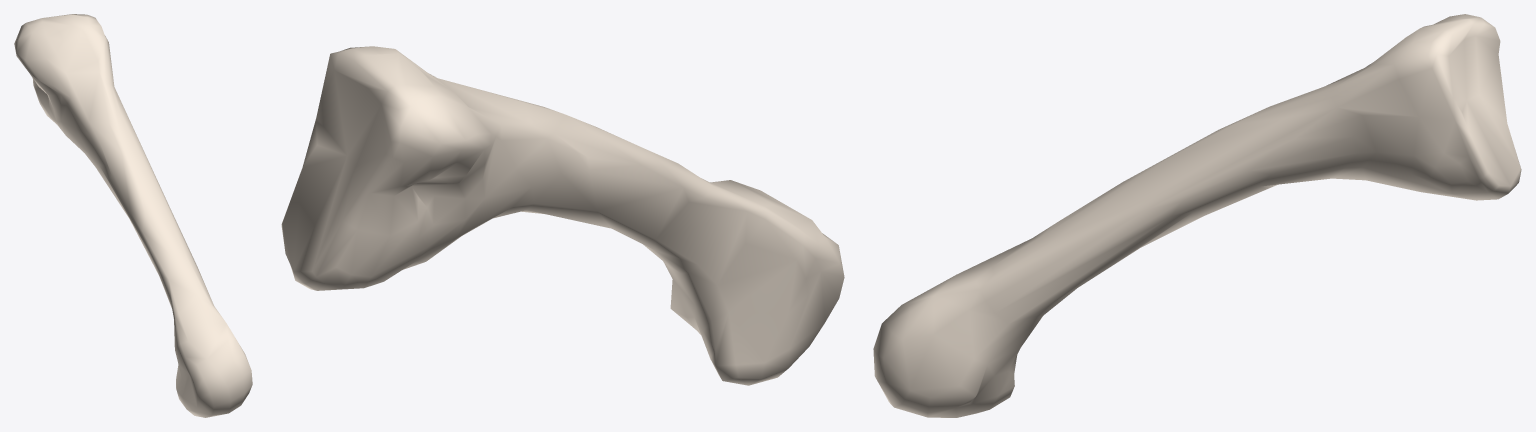
File: right_metatarsal_2.glb
The picture shows the model from 3 angles, left to right: view 1: azimuth 30°, elevation 25°; view 2: azimuth 150°, elevation 25°; view 3: azimuth 270°, elevation 25°; orthographic projection. The views are drawn at different scales.
Parts seen in each view (by area): view 1: Second metatarsal bone.r; view 2: Second metatarsal bone.r; view 3: Second metatarsal bone.r.
Part boxes in pixels (x1=…): Second metatarsal bone.r: x1=14, y1=14, x2=252, y2=417; Second metatarsal bone.r: x1=281, y1=46, x2=844, y2=385; Second metatarsal bone.r: x1=873, y1=14, x2=1521, y2=417.
Bounding box in the file's own units: 0.0164 × 0.0488 × 0.0697.
